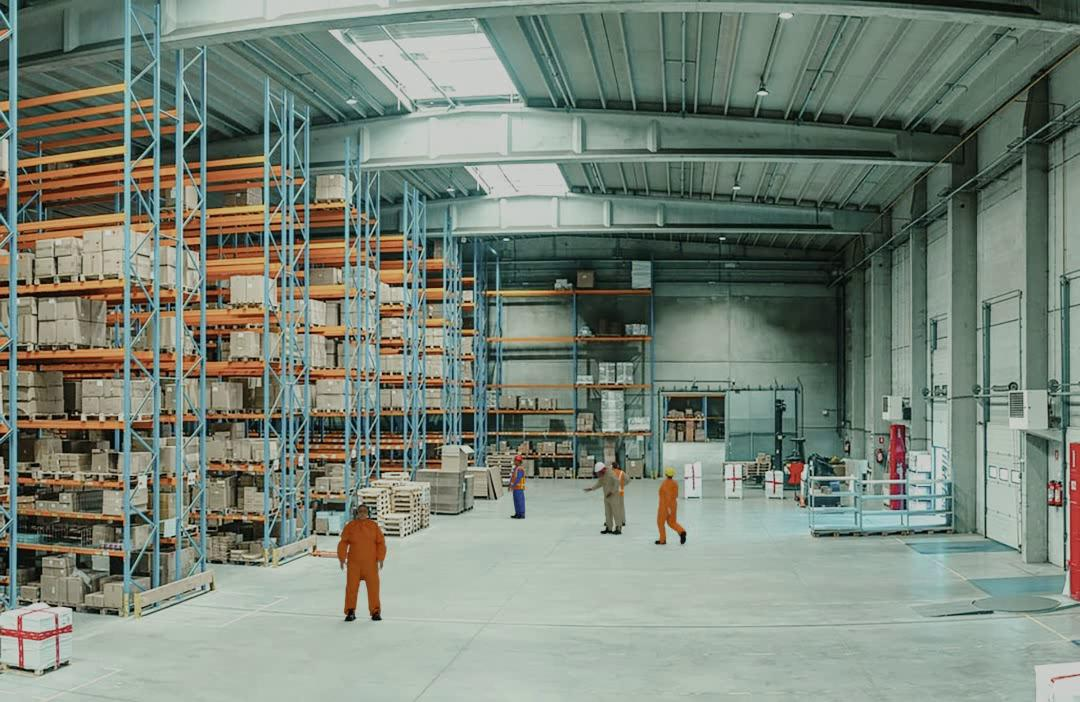Helmet: (663, 467, 676, 476), (593, 462, 606, 471), (515, 455, 524, 463)
Jacket: (614, 470, 626, 496)
Shoes: (369, 611, 384, 621), (678, 531, 688, 545), (344, 611, 356, 622), (510, 512, 524, 519), (653, 538, 667, 544), (601, 528, 612, 534), (612, 529, 622, 535)
